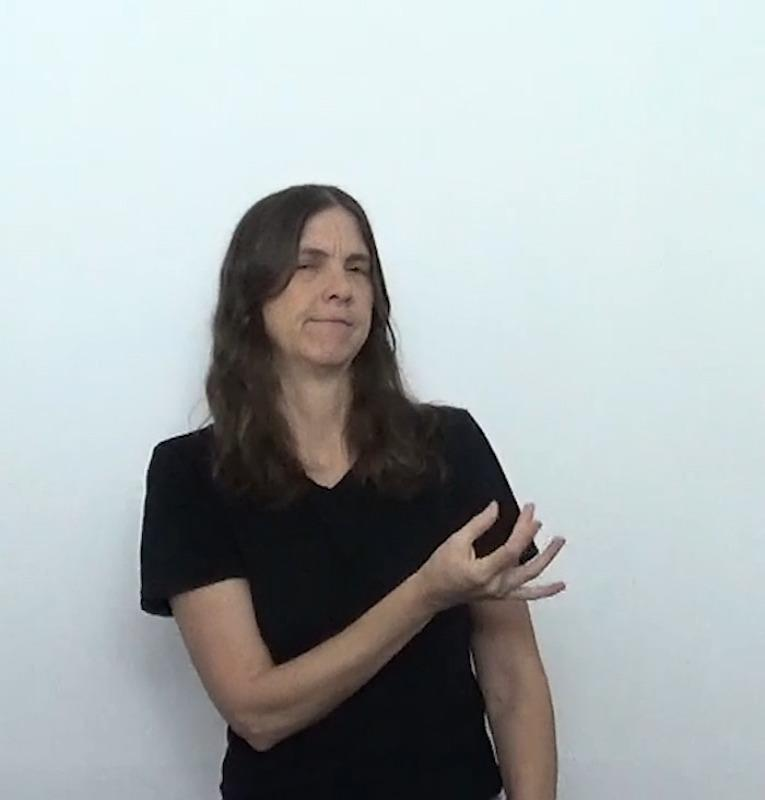Dolor: (104, 142, 602, 759)
